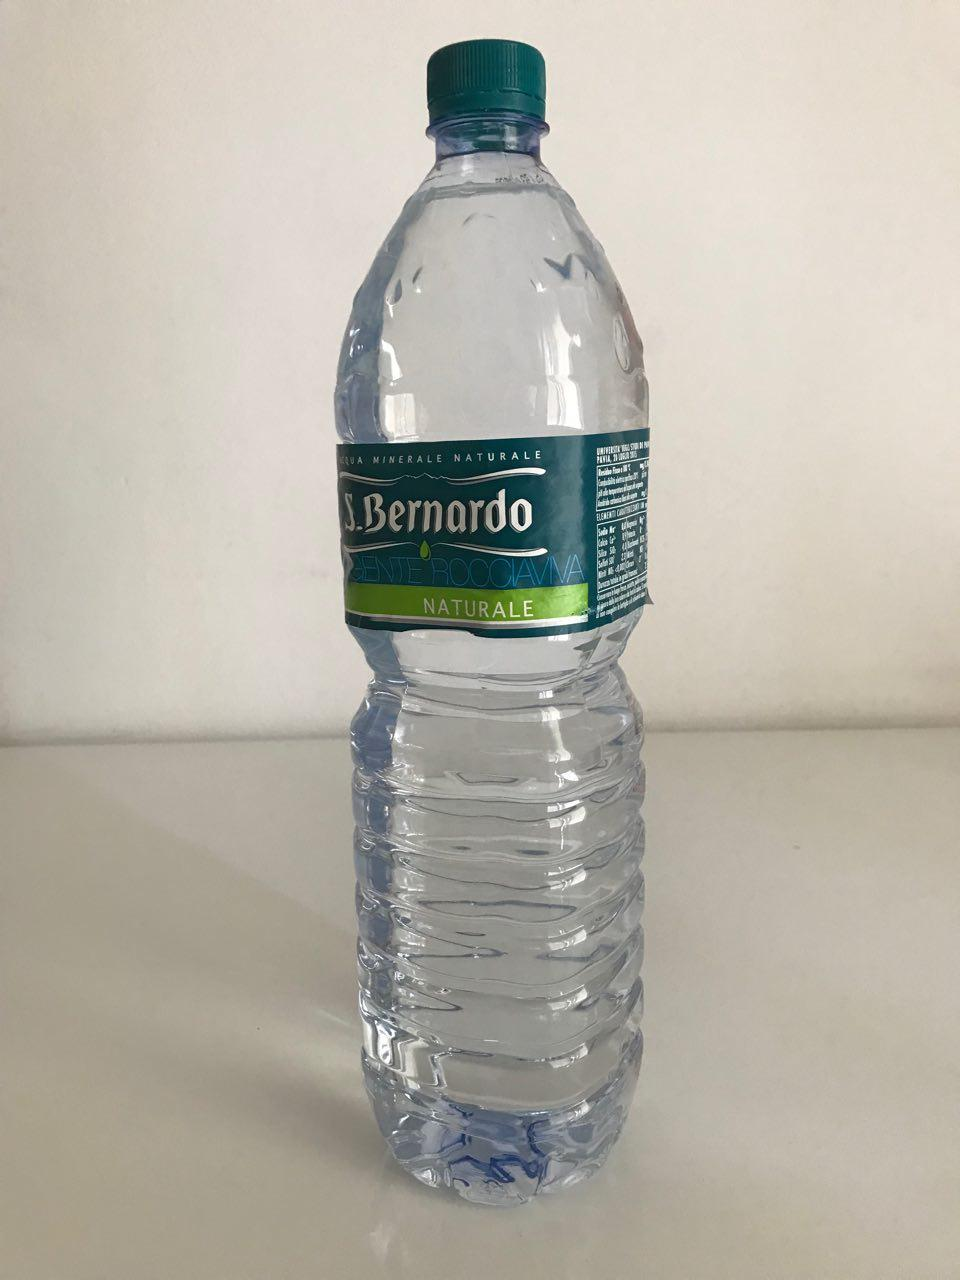san_bernardo: (329, 35, 653, 1215)
